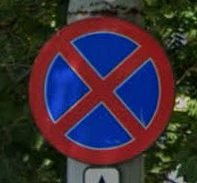oprirea_interzisa: (25, 14, 182, 167)
